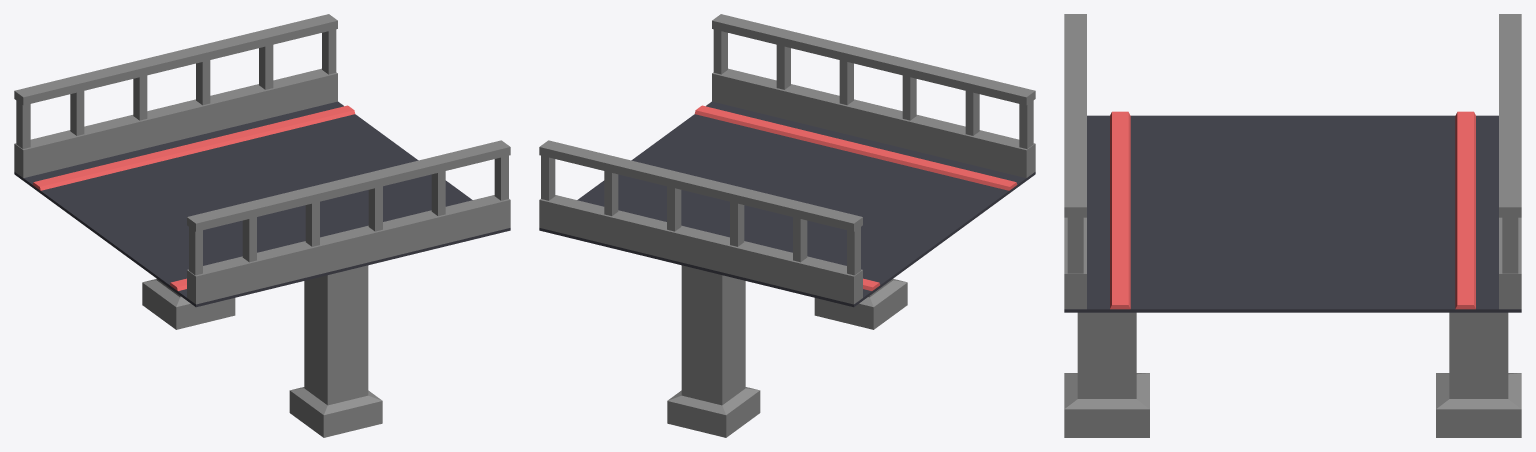
The model's file is kartkids_base_trk_400_brg_mid_1x1.glb.
3 renders of one model, left to right at view 1: azimuth 30°, elevation 25°; view 2: azimuth 150°, elevation 25°; view 3: azimuth 270°, elevation 25°, orthographic. The views are drawn at different scales.
Parts seen in each view (by area): view 1: kartkids_base_trk_010_rd_straight_1x1.029, kartkids_base_trk_020_trn_90_l_1x1.054, kartkids_base_trk_020_trn_90_l_1x1.042, 1.006; view 2: kartkids_base_trk_010_rd_straight_1x1.029, kartkids_base_trk_020_trn_90_l_1x1.042, kartkids_base_trk_020_trn_90_l_1x1.054, 1.006; view 3: kartkids_base_trk_010_rd_straight_1x1.029, 1.006, kartkids_base_trk_020_trn_90_l_1x1.042, kartkids_base_trk_020_trn_90_l_1x1.054.
Part boxes in pixels (x1=…): kartkids_base_trk_010_rd_straight_1x1.029: x1=14, y1=101, x2=510, y2=307; kartkids_base_trk_020_trn_90_l_1x1.054: x1=14, y1=14, x2=337, y2=177; kartkids_base_trk_020_trn_90_l_1x1.042: x1=187, y1=140, x2=510, y2=304; 1.006: x1=142, y1=265, x2=382, y2=437; kartkids_base_trk_010_rd_straight_1x1.029: x1=539, y1=101, x2=1035, y2=307; kartkids_base_trk_020_trn_90_l_1x1.042: x1=712, y1=14, x2=1035, y2=177; kartkids_base_trk_020_trn_90_l_1x1.054: x1=539, y1=140, x2=862, y2=304; 1.006: x1=667, y1=265, x2=907, y2=437; kartkids_base_trk_010_rd_straight_1x1.029: x1=1064, y1=111, x2=1521, y2=312; 1.006: x1=1064, y1=312, x2=1521, y2=437; kartkids_base_trk_020_trn_90_l_1x1.042: x1=1064, y1=14, x2=1086, y2=309; kartkids_base_trk_020_trn_90_l_1x1.054: x1=1499, y1=14, x2=1521, y2=309.
Bounding box in the file's own units: 10 × 7.46 × 10.
